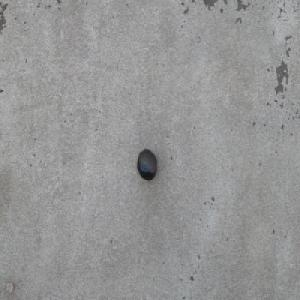FuelCap: (136, 147, 157, 180)
